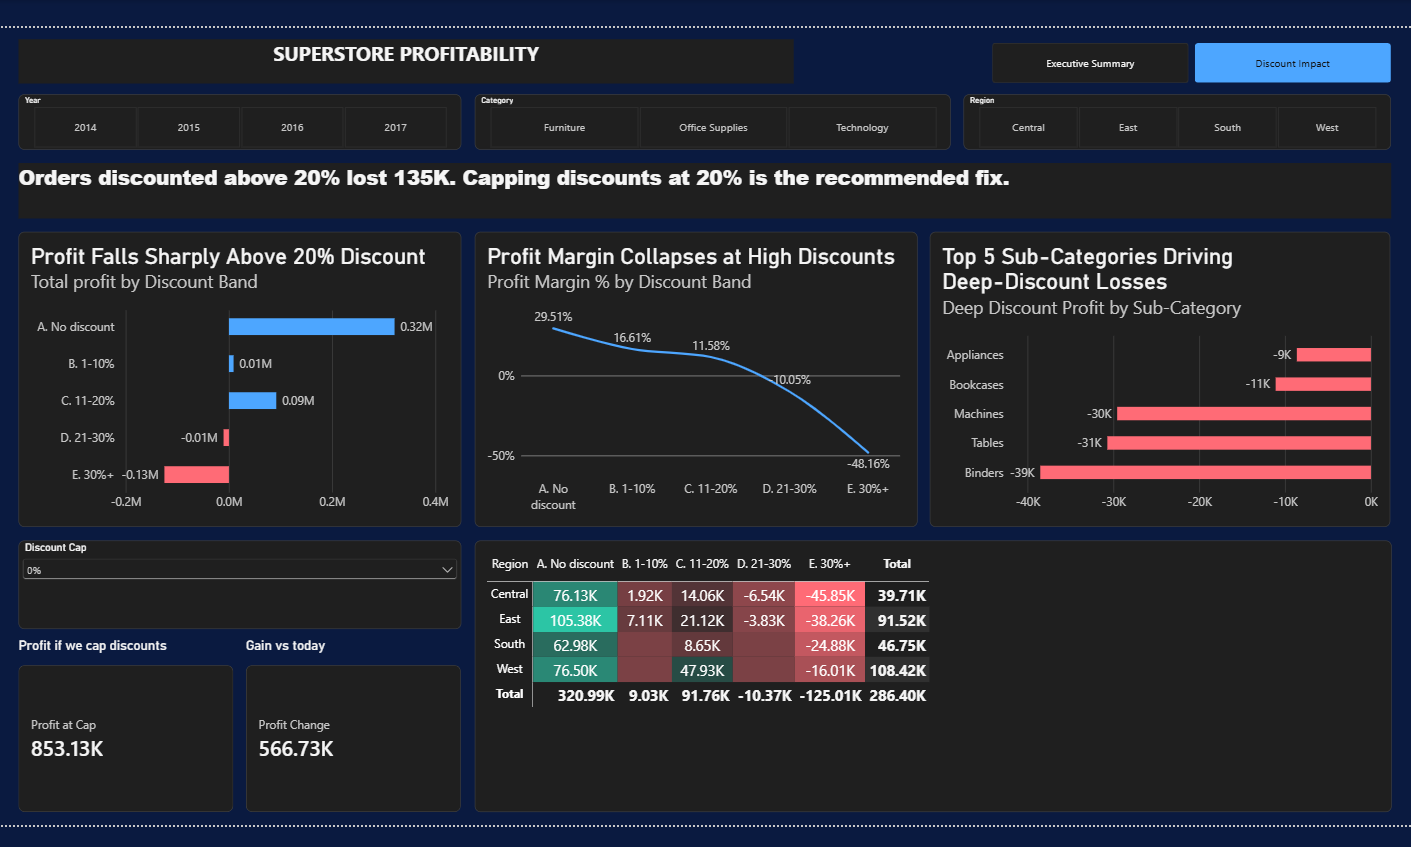

Layout of this report page (visuals, bound fields, positions):
{"tool":"powerbi","page":{"name":"Discount Impact","canvas":[1920,1080],"ordinal":1},"visuals":[{"type":"clusteredBarChart","title":"Profit Falls Sharply Above 20% Discount","fields":{"Category":["Cleaned_data.Discount Band"],"Y":["Cleaned_data.Total profit"]},"box":[30,276,600,400],"z":0},{"type":"lineChart","title":"Profit Margin Collapses at High Discounts","fields":{"Category":["Cleaned_data.Discount Band"],"Y":["Cleaned_data.Profit Margin %"]},"box":[648,276,600,400],"z":1000},{"type":"clusteredBarChart","title":"Top 5 Sub-Categories Driving Deep-Discount Losses","fields":{"Category":["Cleaned_data.Sub-Category"],"Y":["Cleaned_data.Deep Discount Profit"]},"box":[1265.2,276.1,624,400],"z":2000},{"type":"textbox","box":[30,183,1860,75],"z":3000},{"type":"cardVisual","title":"Profit if we cap discounts","fields":{"Data":["Cleaned_data.Profit at Cap"]},"box":[30,826,291,236],"z":3001},{"type":"cardVisual","title":"Gain vs today","fields":{"Data":["Cleaned_data.Profit Change"]},"box":[339,826.5,291,236],"z":3002},{"type":"slicer","fields":{"Values":["Discount Cap.Discount Cap"]},"box":[30,694,600,120],"z":3003},{"type":"pivotTable","fields":{"Columns":["Cleaned_data.Discount Band"],"Rows":["Cleaned_data.Region"],"Values":["Cleaned_data.Total profit"]},"box":[648,694,1242,368],"z":3004},{"type":"slicer","fields":{"Values":["Cleaned_data.Category"]},"box":[648,90,645,75],"z":3005},{"type":"slicer","fields":{"Values":["Cleaned_data.Region"]},"box":[1311,90,579,75],"z":3006},{"type":"textbox","box":[30,15,1050,60],"z":3007},{"type":"slicer","fields":{"Values":["Cleaned_data.Year"]},"box":[30,90,600,75],"z":3008},{"type":"pageNavigator","box":[1350,21,540,54],"z":3009}]}

Visuals, with their boxes on the page's 1920x1080 design canvas (x1, y1, x2, y2). These are canvas units, not pixel positions in the 1411x847 screenshot, which may show the page scaled, cropped or inside an application window:
"Profit Falls Sharply Above 20% Discount" clusteredBarChart: bbox=[30, 276, 630, 676]
"Profit Margin Collapses at High Discounts" lineChart: bbox=[648, 276, 1248, 676]
"Top 5 Sub-Categories Driving Deep-Discount Losses" clusteredBarChart: bbox=[1265, 276, 1889, 676]
textbox: bbox=[30, 183, 1890, 258]
"Profit if we cap discounts" cardVisual: bbox=[30, 826, 321, 1062]
"Gain vs today" cardVisual: bbox=[339, 826, 630, 1062]
slicer - Discount Cap.Discount Cap: bbox=[30, 694, 630, 814]
pivotTable - Cleaned_data.Discount Band x Cleaned_data.Region: bbox=[648, 694, 1890, 1062]
slicer - Cleaned_data.Category: bbox=[648, 90, 1293, 165]
slicer - Cleaned_data.Region: bbox=[1311, 90, 1890, 165]
textbox: bbox=[30, 15, 1080, 75]
slicer - Cleaned_data.Year: bbox=[30, 90, 630, 165]
pageNavigator: bbox=[1350, 21, 1890, 75]
